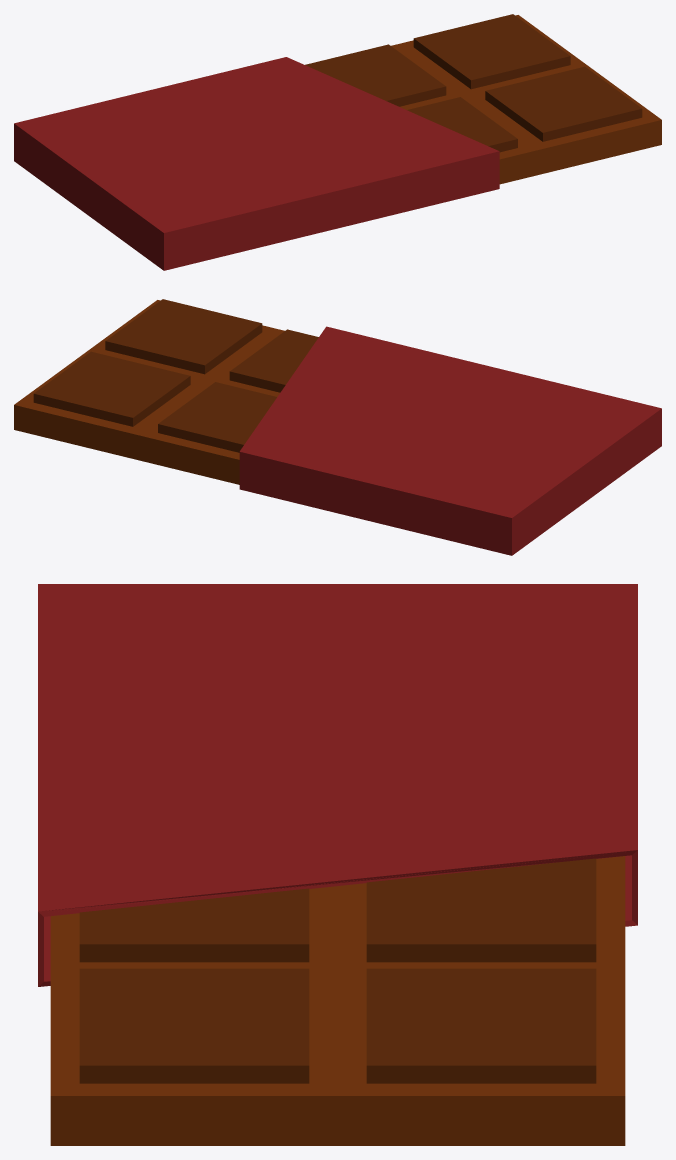
The model's file is Chocolate.fbx.
The picture shows the model from 3 angles, top to bottom: view 1: azimuth 30°, elevation 25°; view 2: azimuth 150°, elevation 25°; view 3: azimuth 270°, elevation 25°; orthographic projection. The views are drawn at different scales.
Parts seen in each view (by area): view 1: Chocolate; view 2: Chocolate; view 3: Chocolate.
Part boxes in pixels (x1,y1,x2,y2): Chocolate: (14,14,661,270); Chocolate: (14,299,661,555); Chocolate: (38,584,637,1145).
Size of the model in its own units: 5.95 by 0.4281 by 3.08.
